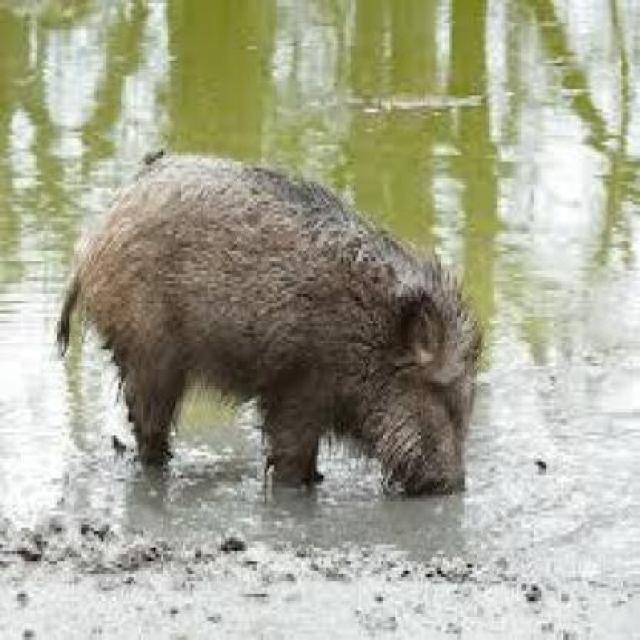wildboar: (48, 142, 486, 510)
